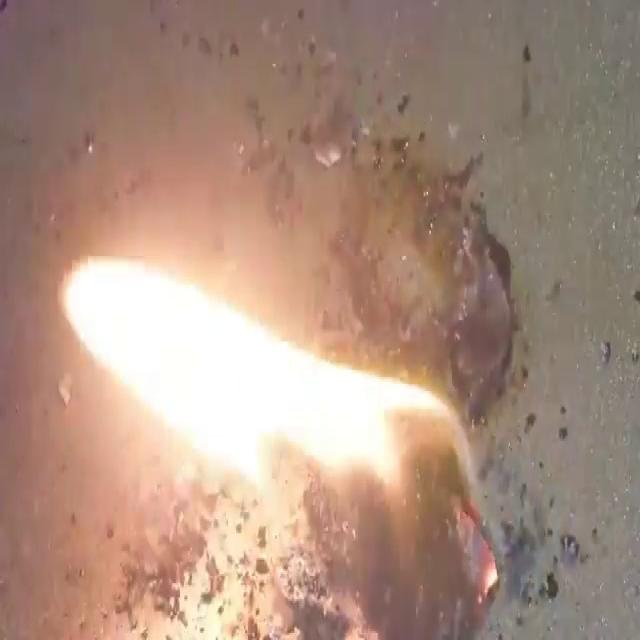Fire: (58, 247, 461, 498)
